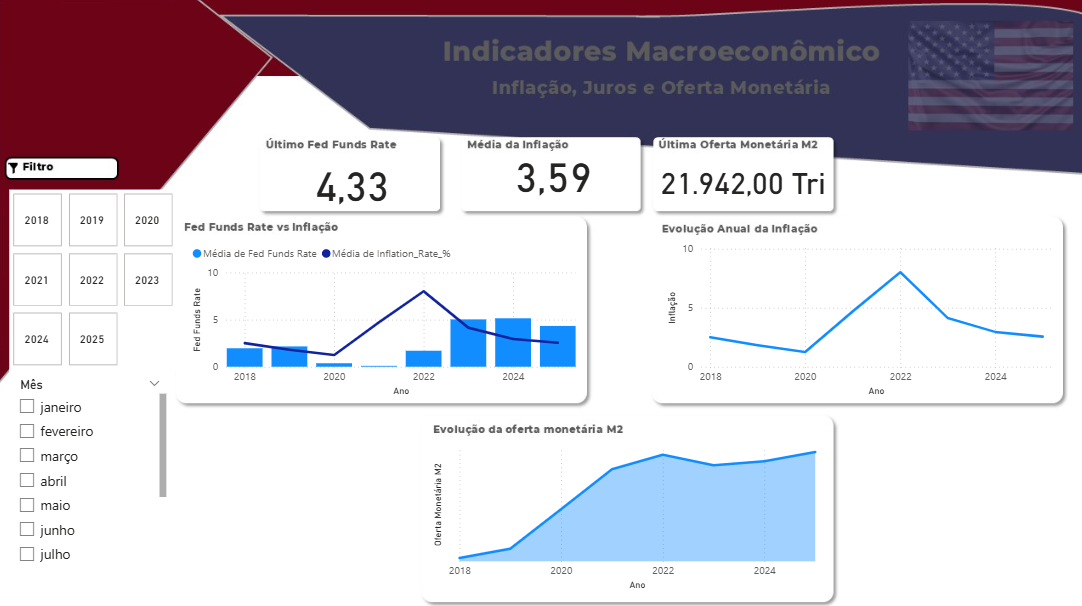

This screenshot's page, from the dashboard's own definition file:
{"tool":"powerbi","page":{"name":"Página 1","canvas":[1280,720],"ordinal":0},"visuals":[{"type":"lineChart","fields":{"Category":["EUA-macro_data_25yrs_ptBR.Date.Variation.Hierarquia de datas.Ano"],"Y":["Avg(EUA-macro_data_25yrs_ptBR.Inflation_Rate_%)"]},"box":[782.8,282.2,465,192.6],"z":0},{"type":"areaChart","fields":{"Category":["EUA-macro_data_25yrs_ptBR.Date.Variation.Hierarquia de datas.Ano","EUA-macro_data_25yrs_ptBR.Date.Variation.Hierarquia de datas.Trimestre","EUA-macro_data_25yrs_ptBR.Date.Variation.Hierarquia de datas.Mês","EUA-macro_data_25yrs_ptBR.Date.Variation.Hierarquia de datas.Dia"],"Y":["Avg(EUA-macro_data_25yrs_ptBR.M2_Money_Supply)"]},"box":[506.8,517.8,472.4,185.3],"z":1000},{"type":"lineStackedColumnComboChart","fields":{"Category":["EUA-macro_data_25yrs_ptBR.Date.Variation.Hierarquia de datas.Ano","EUA-macro_data_25yrs_ptBR.Date.Variation.Hierarquia de datas.Trimestre","EUA-macro_data_25yrs_ptBR.Date.Variation.Hierarquia de datas.Mês","EUA-macro_data_25yrs_ptBR.Date.Variation.Hierarquia de datas.Dia"],"Y":["Avg(EUA-macro_data_25yrs_ptBR.Fed Funds Rate)"],"Y2":["Avg(EUA-macro_data_25yrs_ptBR.Inflation_Rate_%)"]},"box":[223.3,282.2,461.4,192.6],"z":2000},{"type":"card","fields":{"Values":["EUA-macro_data_25yrs_ptBR.FedFunds_Ultimo"]},"box":[314.1,185.3,204.9,63.8],"z":3000},{"type":"card","fields":{"Values":["EUA-macro_data_25yrs_ptBR.M2_Ultimo_card"]},"box":[773,185.3,206.1,63.8],"z":4000},{"type":"card","fields":{"Values":["EUA-macro_data_25yrs_ptBR.Media_Inflacao"]},"box":[555.8,185.3,196.3,63.8],"z":5000},{"type":"slicer","fields":{"Values":["EUA-macro_data_25yrs_ptBR.Date.Variation.Hierarquia de datas.Mês"]},"box":[13.6,442.7,190,235.5],"z":5001},{"type":"advancedSlicerVisual","fields":{"Values":["EUA-macro_data_25yrs_ptBR.Date.Variation.Hierarquia de datas.Ano"]},"box":[13.5,225.8,197.5,214.7],"z":5002}]}

Visuals, with their boxes in screenshot pixels (x1, y1, x2, y2), scaled from the page's 1280x720 canvas onto the 1082x606 screenshot:
lineChart - EUA-macro_data_25yrs_ptBR.Date.Variation.Hierarquia de datas.Ano x Avg(EUA-macro_data_25yrs_ptBR.Inflation_Rate_%): [662,238,1055,400]
areaChart - EUA-macro_data_25yrs_ptBR.Date.Variation.Hierarquia de datas.Ano x EUA-macro_data_25yrs_ptBR.Date.Variation.Hierarquia de datas.Trimestre: [428,436,828,592]
lineStackedColumnComboChart - EUA-macro_data_25yrs_ptBR.Date.Variation.Hierarquia de datas.Ano x EUA-macro_data_25yrs_ptBR.Date.Variation.Hierarquia de datas.Trimestre: [189,238,579,400]
card - EUA-macro_data_25yrs_ptBR.FedFunds_Ultimo: [266,156,439,210]
card - EUA-macro_data_25yrs_ptBR.M2_Ultimo_card: [653,156,828,210]
card - EUA-macro_data_25yrs_ptBR.Media_Inflacao: [470,156,636,210]
slicer - EUA-macro_data_25yrs_ptBR.Date.Variation.Hierarquia de datas.Mês: [11,373,172,571]
advancedSlicerVisual - EUA-macro_data_25yrs_ptBR.Date.Variation.Hierarquia de datas.Ano: [11,190,178,371]
